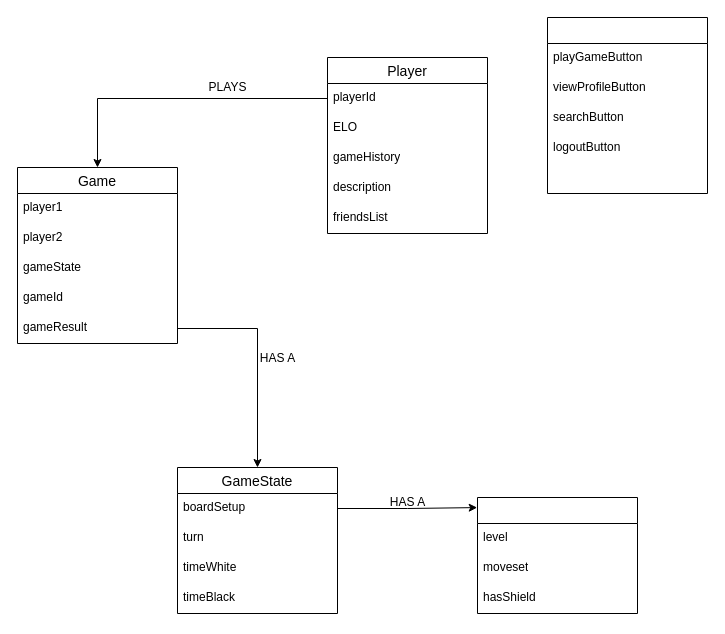
Image size: 725x634. Some labels were removed from this diagram. The shapes that lost their labels are listed below. From the top down, each one's box as (x1, y1, x2, y2) in pixels, then its label:
(546, 16, 708, 194): Menu
(476, 496, 638, 614): Piece
